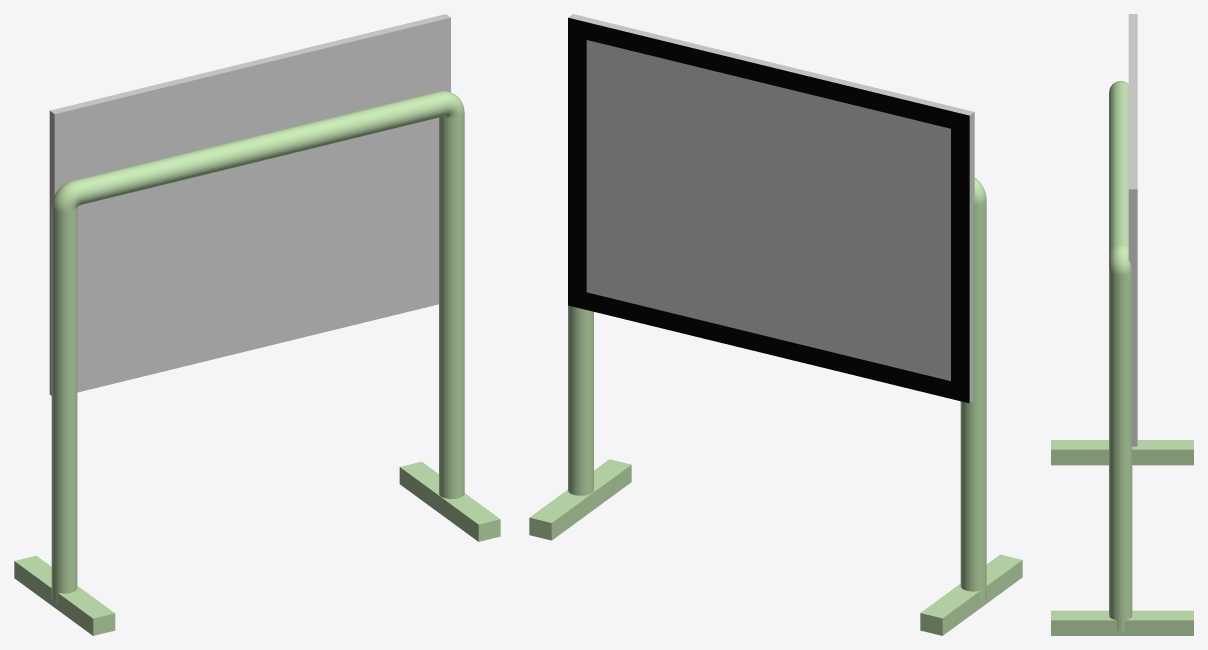
Rendered from TABLICA.fbx.
3 renders of one model, left to right at view 1: azimuth 30°, elevation 25°; view 2: azimuth 150°, elevation 25°; view 3: azimuth 270°, elevation 25°, orthographic. The views are drawn at different scales.
Visible parts, largest first — view 1: Cube.069; view 2: Cube.069; view 3: Cube.069.
Part boxes in pixels (left/top/right/bottom): Cube.069: left=14, top=14, right=500, bottom=635; Cube.069: left=529, top=14, right=1022, bottom=635; Cube.069: left=1051, top=14, right=1193, bottom=635.
Size of the model in its own units: 164 by 188 by 54.77.
